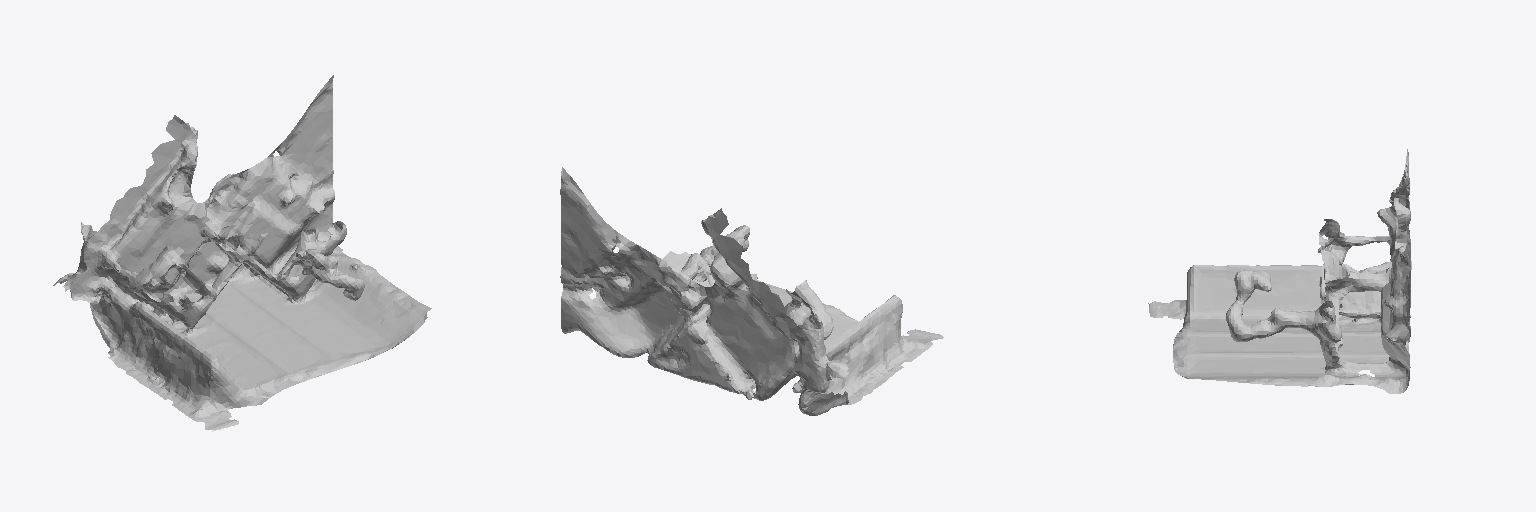
The model's file is background_full.obj.
3 views of the same model, side by side, from view 1: azimuth 30°, elevation 25°; view 2: azimuth 150°, elevation 25°; view 3: azimuth 270°, elevation 25° (orthographic).
Bounding box in the file's own units: 2.67 × 1.81 × 2.14.